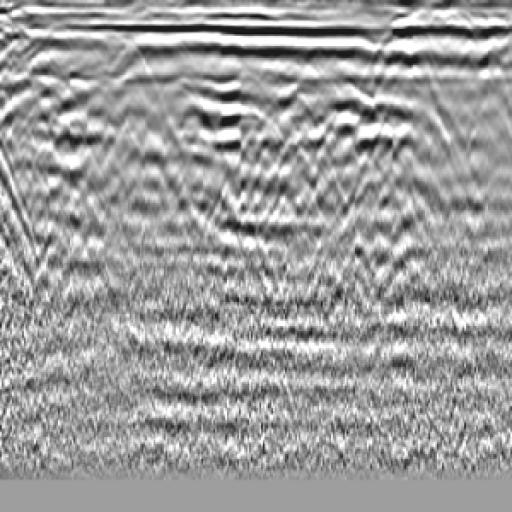metalic: (159, 54, 308, 276), (71, 36, 188, 260)
